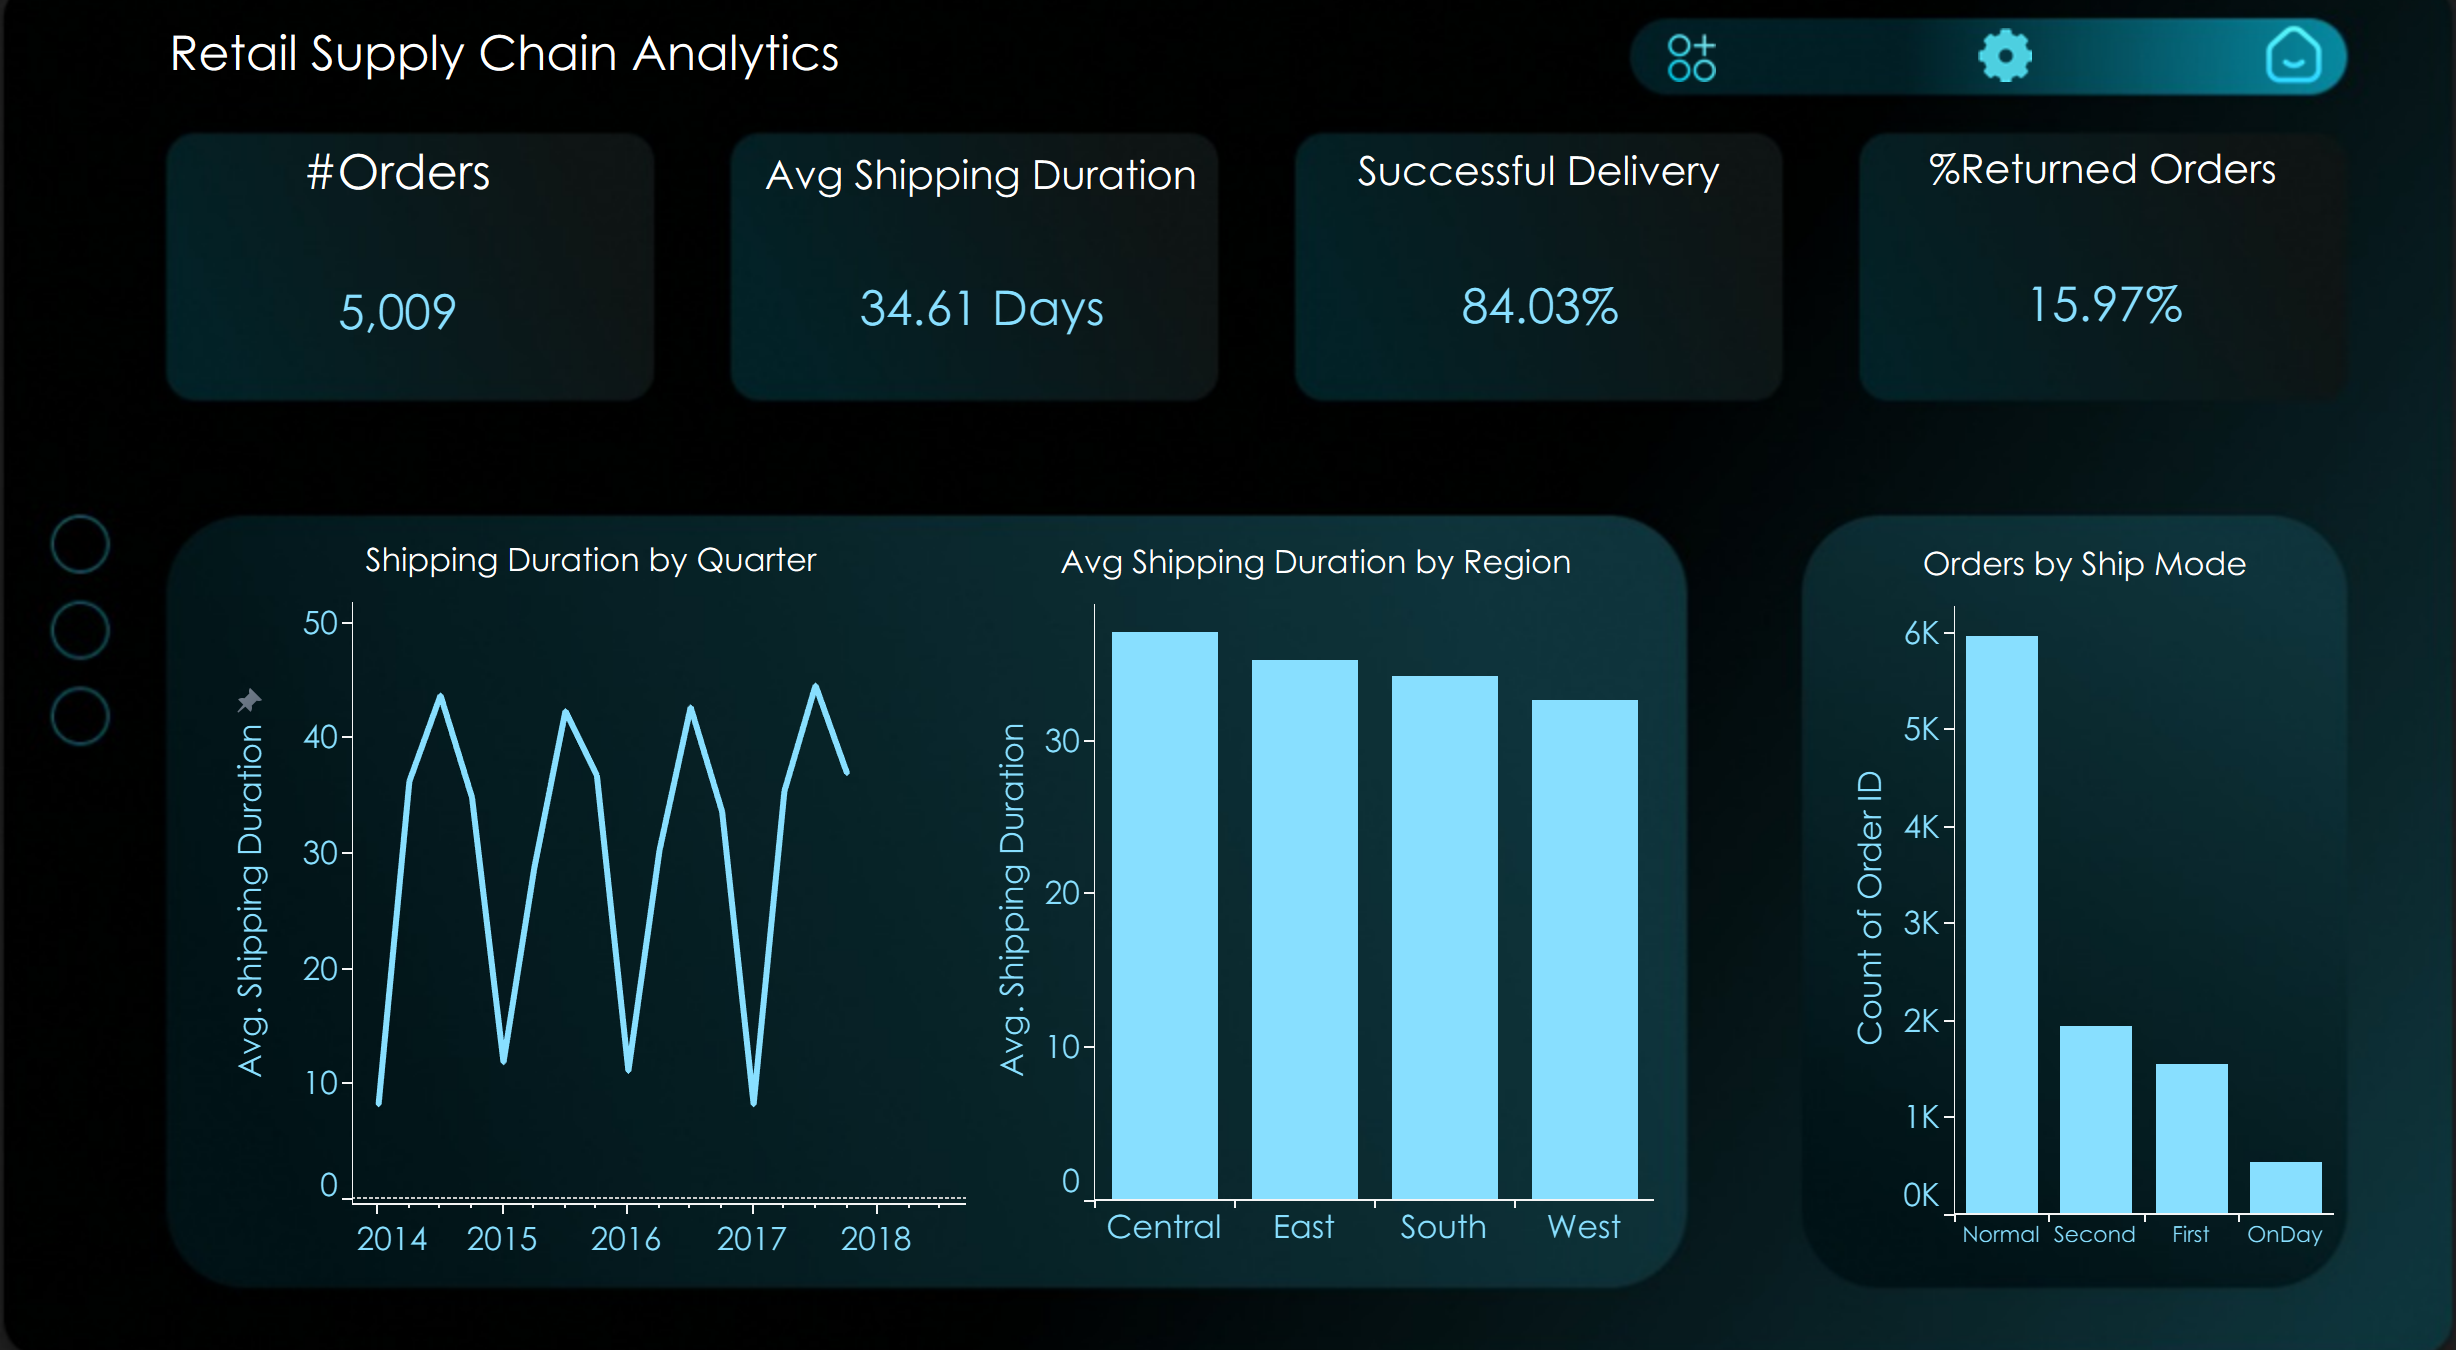

Layout of this report page (visuals, bound fields, positions):
{"tool":"tableau","page":{"name":"Shipping Dashboard","canvas":[1280,720],"ordinal":5},"visuals":[{"type":"image","param":"Image/c62beb59-c3a0-498c-a12f-f4a8f3692667.jpg","box":[8,8,1264,704]},{"type":"image","param":"Image/home_18976962.png","box":[1144,32,33,34]},{"type":"text","box":[96,33,359,30]},{"type":"image","param":"Image/settings_759614.png","box":[1003,36,27,30]},{"type":"image","param":"Image/application_5718124.png","box":[847,38,26,25]},{"type":"worksheet","title":"#Orders","mark":"Automatic","box":[108,89,209,133]},{"type":"worksheet","title":"%Returned Orders","mark":"Automatic","box":[958,90,215,129]},{"type":"worksheet","title":"Successful Delivery","mark":"Automatic","box":[660,91,247,129]},{"type":"worksheet","title":"Avg Shipping Duration","mark":"Automatic","box":[376,93,257,126]},{"type":"worksheet","title":"Shipping Duration by Quarter","mark":"Automatic","rows":["Calculation_413768250722529280"],"cols":["Ship Date"],"box":[122,288,375,366]},{"type":"worksheet","title":"Avg Shipping Duration by Region","mark":"Automatic","rows":["Calculation_413768250722529280"],"cols":["Region"],"box":[503,289,338,357]},{"type":"worksheet","title":"Orders by Ship Mode","mark":"Automatic","rows":["Order ID"],"cols":["Ship Mode"],"box":[932,290,249,359]}]}

Visuals, with their boxes in screenshot pixels (x1, y1, x2, y2), scaled from the page's 1280x720 canvas onto the 2456x1350 screenshot:
image: region(15, 15, 2441, 1335)
image: region(2195, 60, 2258, 124)
text: region(184, 62, 873, 118)
image: region(1925, 68, 1976, 124)
image: region(1625, 71, 1675, 118)
"#Orders" worksheet: region(207, 167, 608, 416)
"%Returned Orders" worksheet: region(1838, 169, 2251, 411)
"Successful Delivery" worksheet: region(1266, 171, 1740, 412)
"Avg Shipping Duration" worksheet: region(721, 174, 1215, 411)
"Shipping Duration by Quarter" worksheet: region(234, 540, 954, 1226)
"Avg Shipping Duration by Region" worksheet: region(965, 542, 1614, 1211)
"Orders by Ship Mode" worksheet: region(1788, 544, 2266, 1217)
